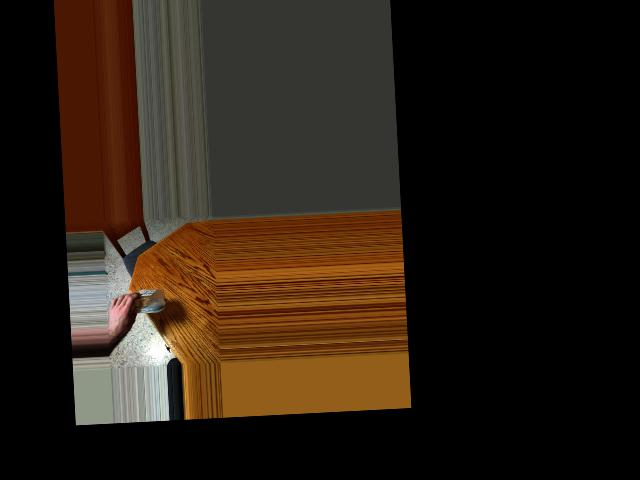cheese: (116, 281, 163, 322)
